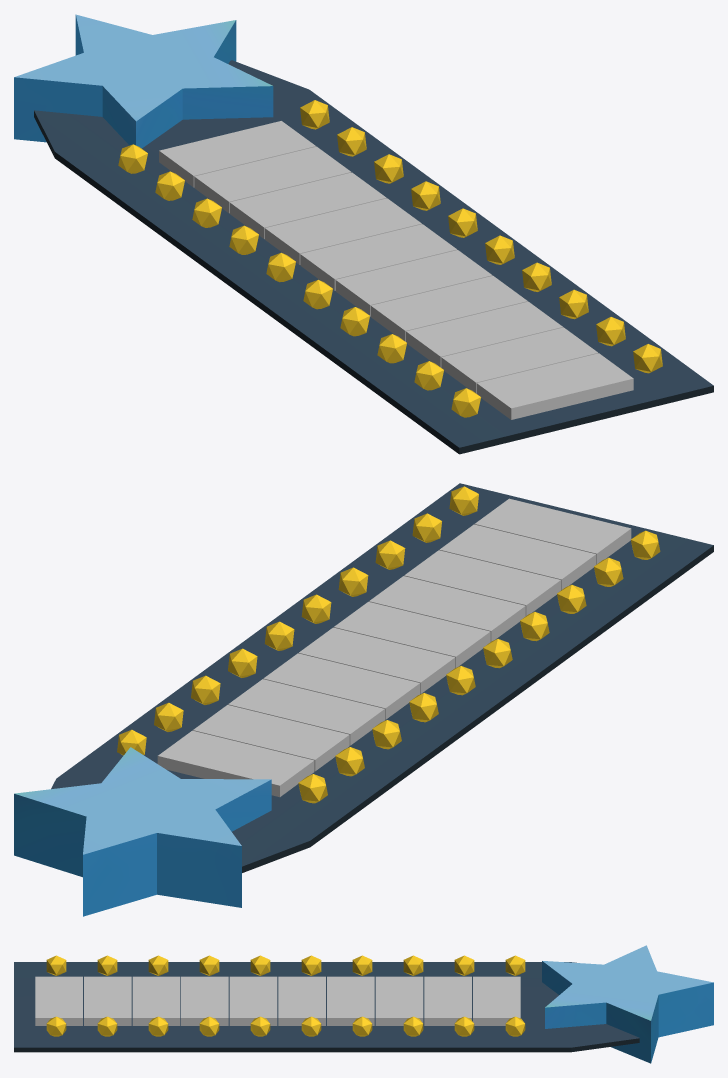
The model's file is Platform.fbx.
3 views of the same model, one above another, from view 1: azimuth 30°, elevation 25°; view 2: azimuth 150°, elevation 25°; view 3: azimuth 270°, elevation 25° (orthographic). The views are drawn at different scales.
Parts seen in each view (by area): view 1: Platform, 1m, 8m, 12m, 16m, 4m, 10m, 18m, 20M, 2m, Max; view 2: Platform, Max, 2m, 1m, 10m, 4m, 18m, 8m, 20M, 12m, 16m; view 3: Platform, 4m, 10m, 18m, Max, 20M, 1m, 2m, 8m, 12m, 16m.
Part boxes in pixels (<box>): Platform: <box>14,14,713,454</box>; 1m: <box>476,353,633,419</box>; 8m: <box>370,276,527,341</box>; 12m: <box>300,224,457,290</box>; 16m: <box>265,198,421,264</box>; 4m: <box>406,301,563,367</box>; 10m: <box>335,250,492,316</box>; 18m: <box>229,172,386,239</box>; 20M: <box>194,146,351,213</box>; 2m: <box>441,327,597,393</box>; Max: <box>159,121,316,187</box>; Platform: <box>14,483,713,916</box>; Max: <box>157,730,314,797</box>; 2m: <box>439,524,596,590</box>; 1m: <box>474,498,631,564</box>; 10m: <box>333,601,490,667</box>; 4m: <box>404,550,560,615</box>; 18m: <box>228,679,384,745</box>; 8m: <box>369,576,525,641</box>; 20M: <box>193,705,349,771</box>; 12m: <box>298,627,455,693</box>; 16m: <box>263,653,419,719</box>; Platform: <box>14,945,713,1063</box>; 4m: <box>132,976,180,1025</box>; 10m: <box>229,976,277,1025</box>; 18m: <box>375,976,423,1025</box>; Max: <box>473,976,520,1025</box>; 20M: <box>424,976,471,1025</box>; 1m: <box>35,976,82,1025</box>; 2m: <box>84,976,131,1025</box>; 8m: <box>181,976,228,1025</box>; 12m: <box>278,976,325,1025</box>; 16m: <box>327,976,374,1025</box>.
Size of the model in its own units: 4.01 by 0.9338 by 13.86.
